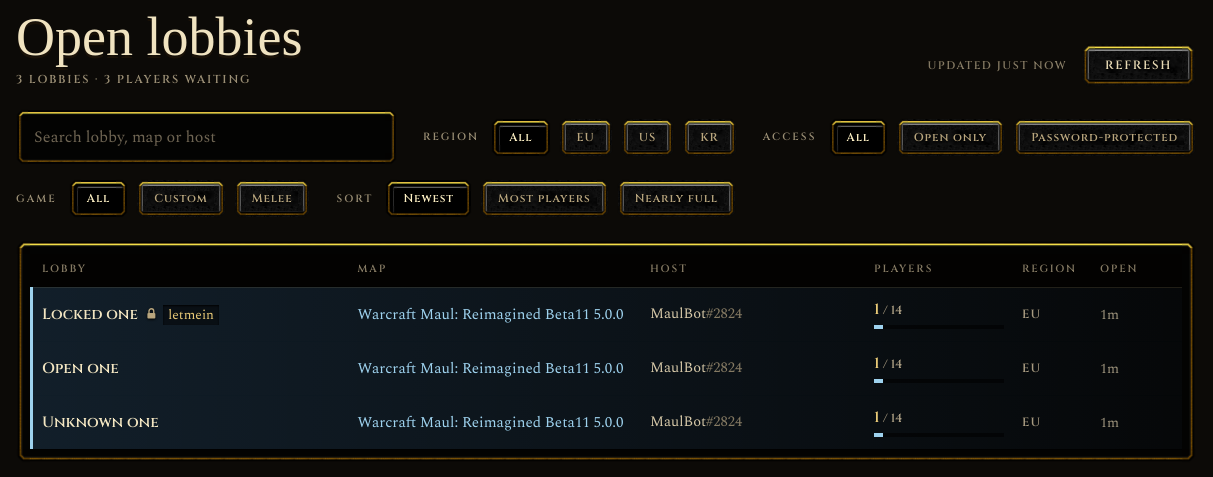
Test: every open lobby › marks lobbies with a password and filters on it
Expected: the picture named "Password-protected" is shown, [145,306,157,319]
Expected: the text "letmein" is shown, [163,304,219,324]
What coordinates should you click on to do the following:
click the button "Open only"
I would click on:
 (951, 137)
Its box is [896,118,1005,156].
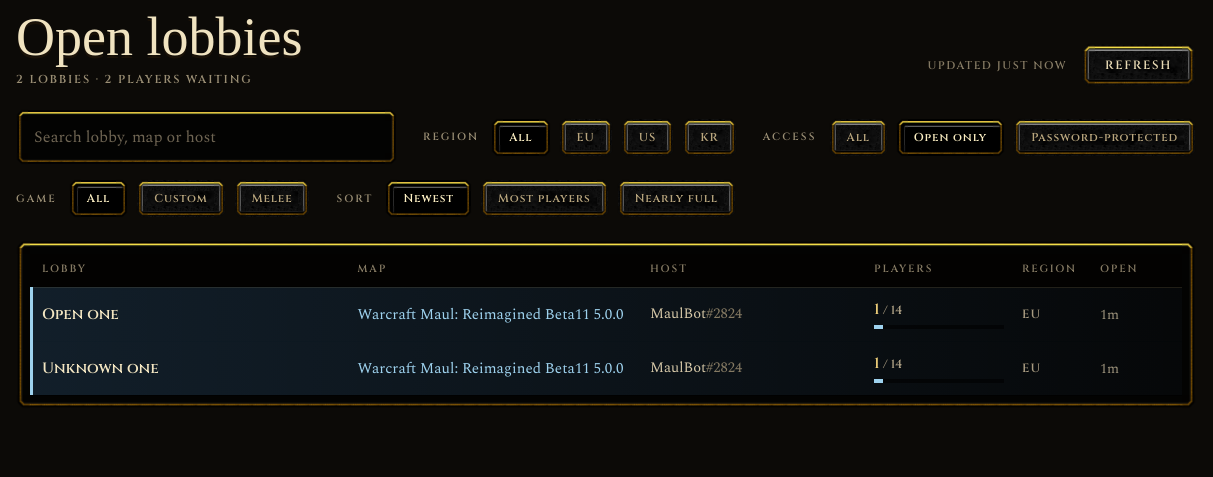
What coordinates should you click on to do the following:
click the button "Password-protected"
I would click on:
 (1105, 137)
Its box is [1013,118,1196,156].
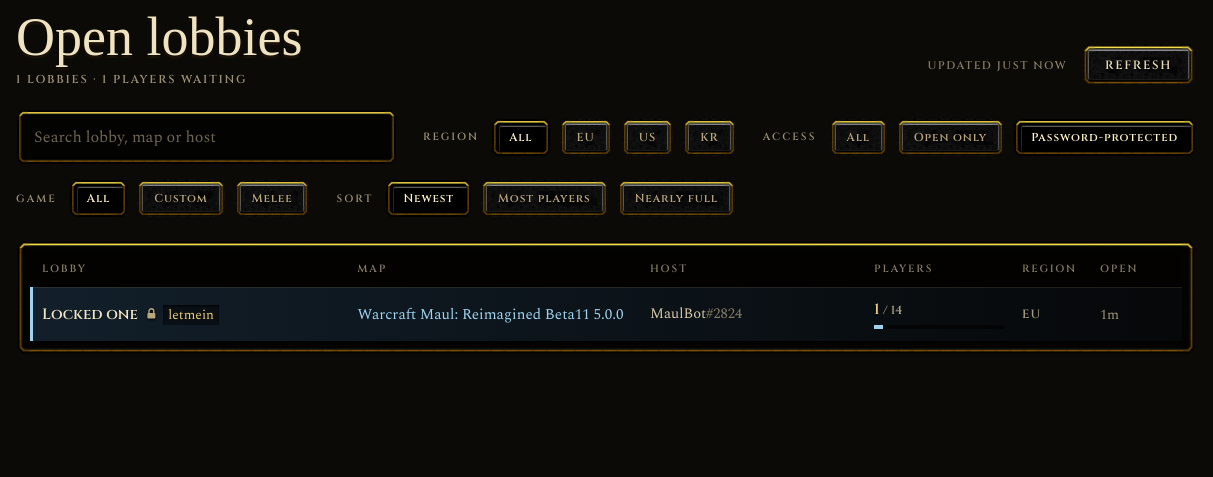
Expected: the number of list items is 1, [30,287,1182,341]
Expected: the text "Locked one" is shown, [42,304,138,324]
